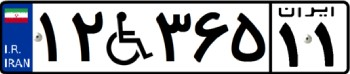character: (103, 6, 155, 68), (230, 6, 269, 68), (65, 7, 105, 66), (192, 6, 230, 68), (154, 6, 192, 65), (310, 20, 343, 71), (275, 20, 305, 72), (36, 10, 62, 68)
